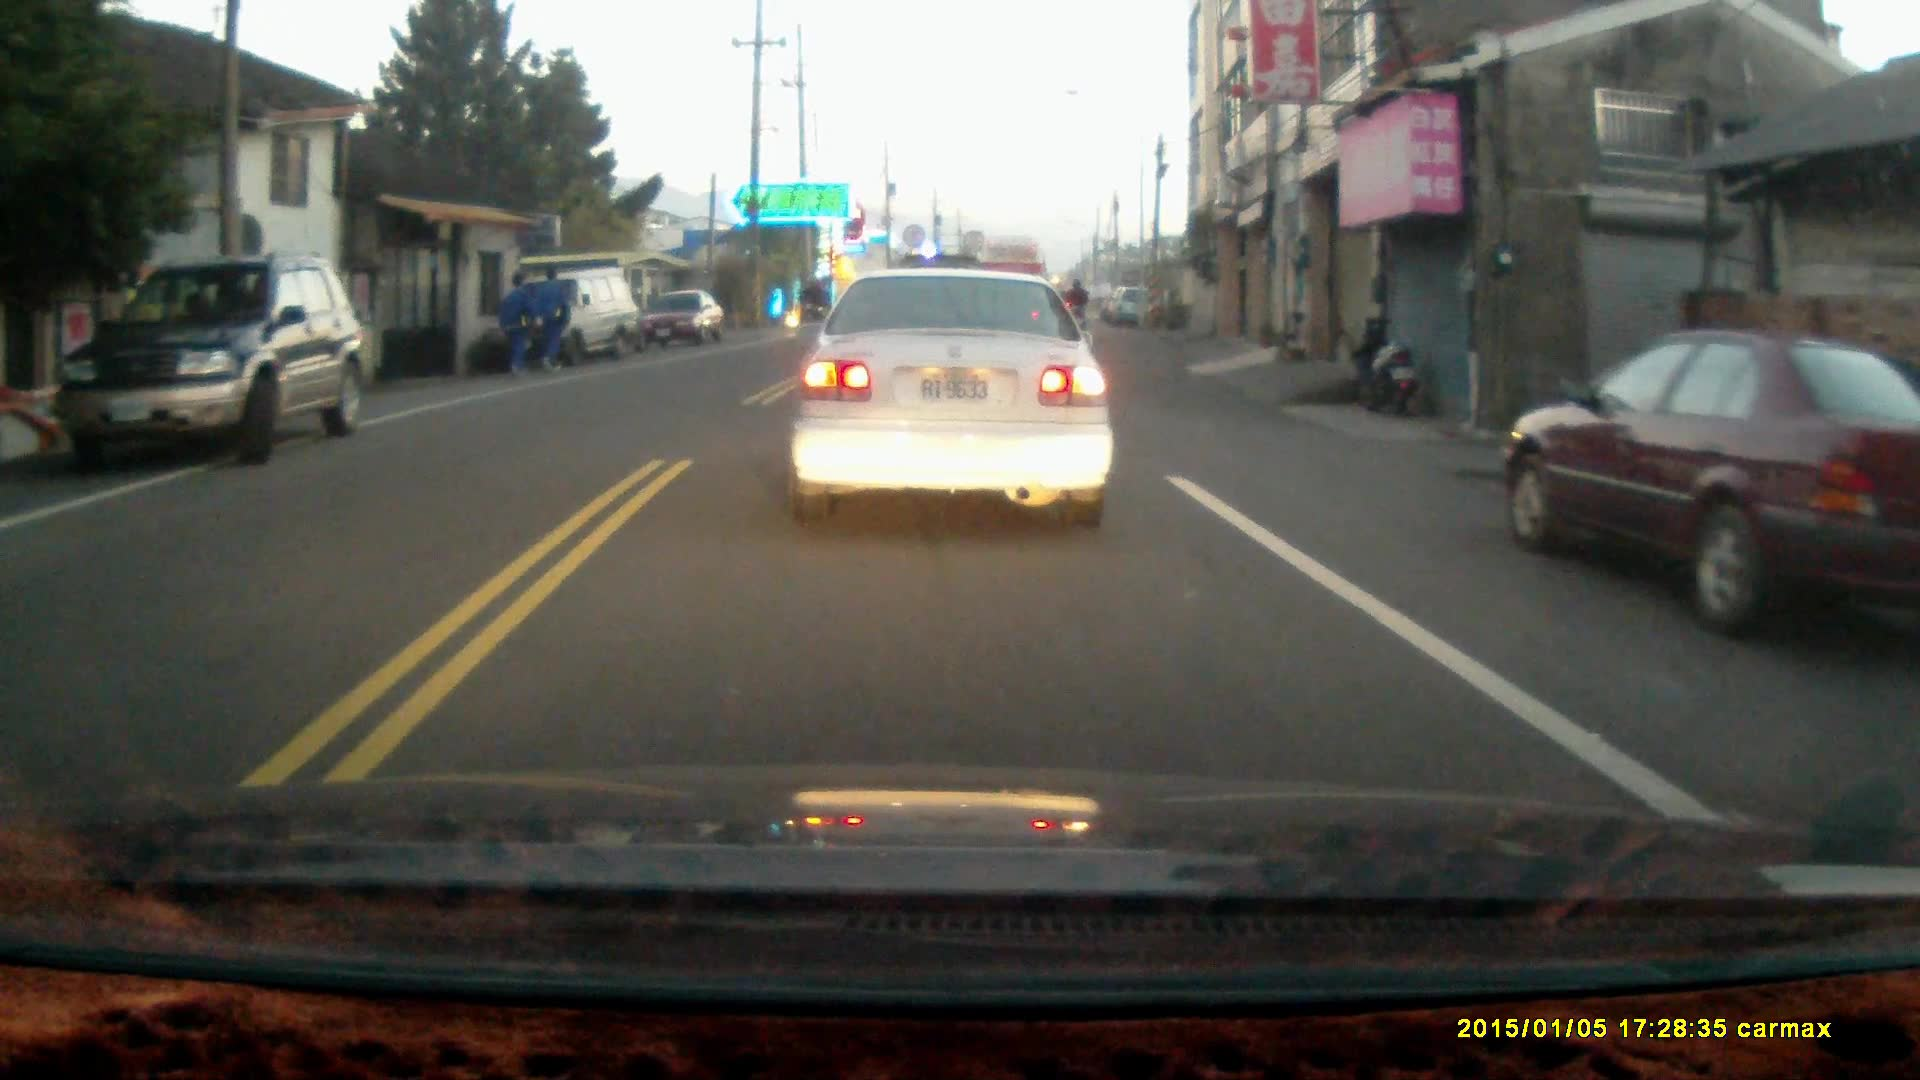pedestrian: (499, 271, 536, 385), (536, 260, 570, 373)
vehicle: (1514, 332, 1919, 643), (787, 265, 1116, 535), (55, 260, 363, 469), (516, 270, 652, 363), (633, 293, 726, 357)
